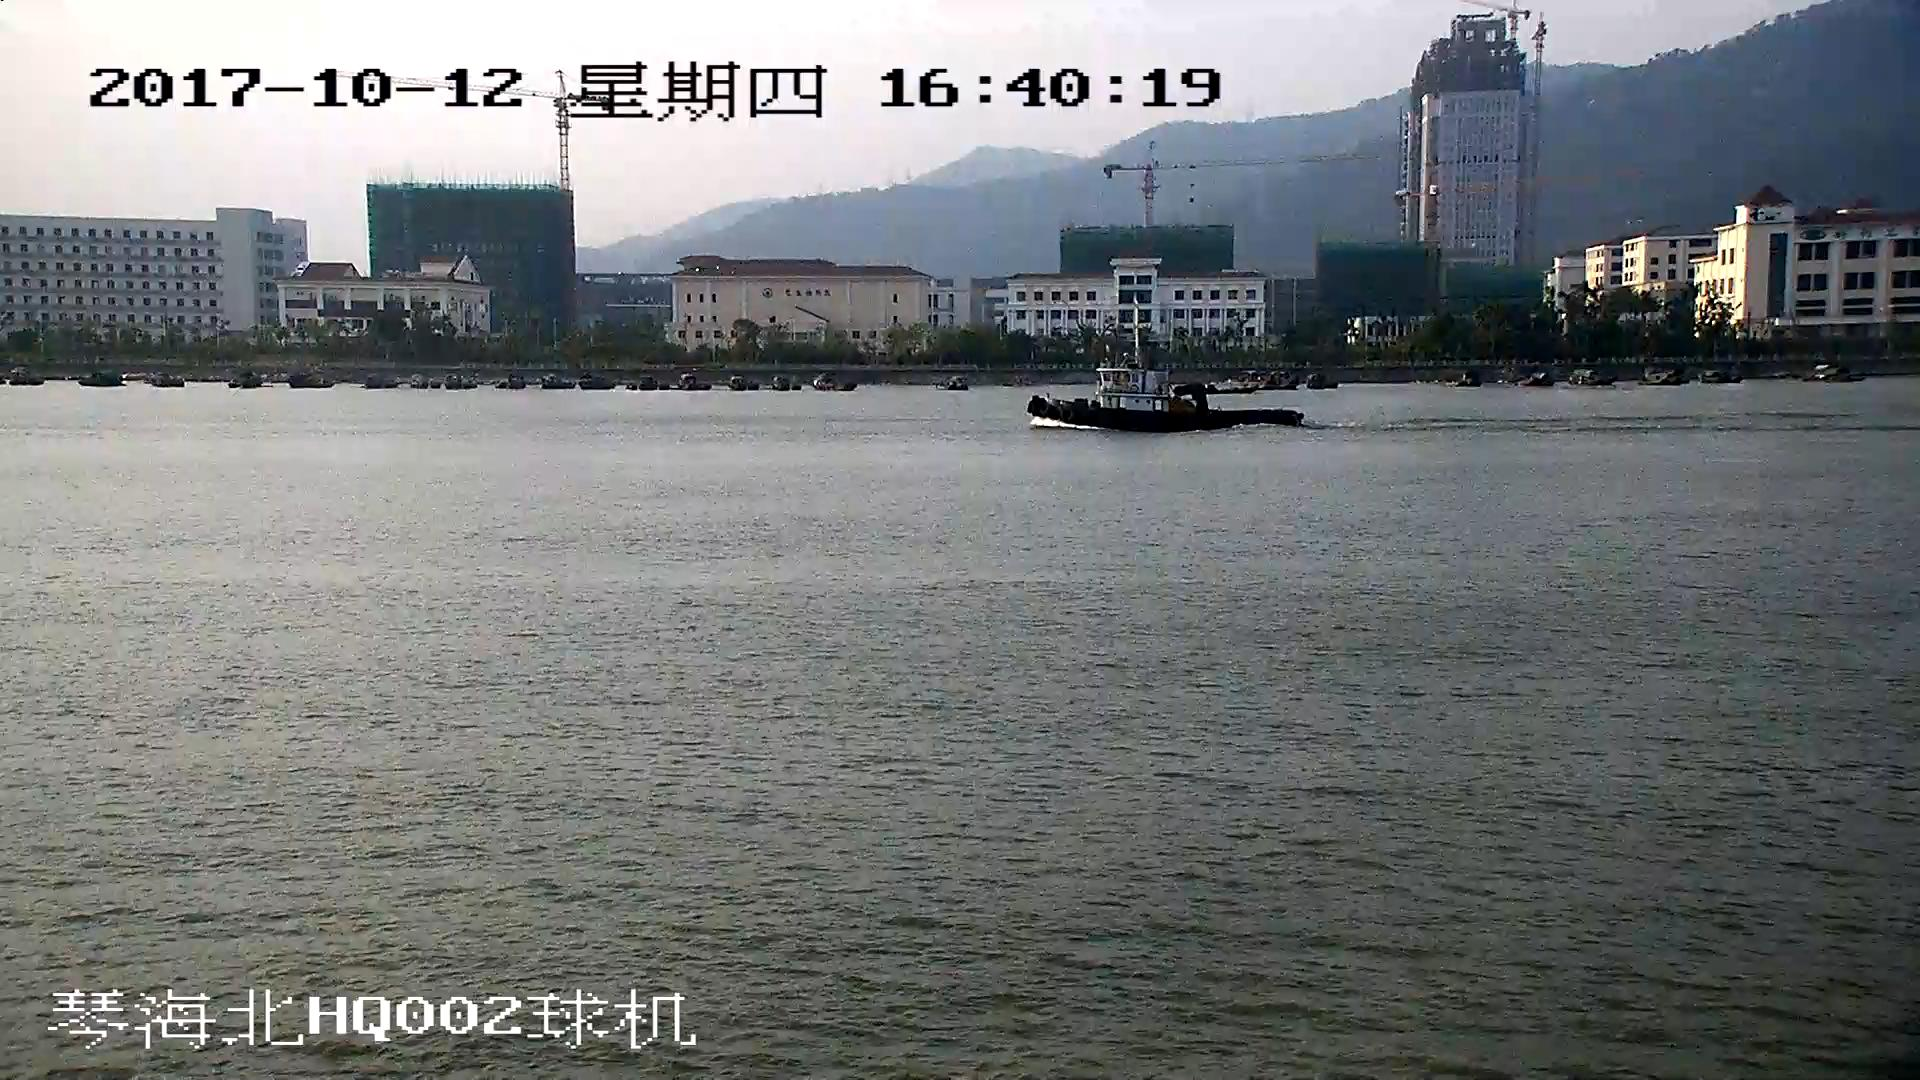passenger ship: (1031, 306, 1304, 437)
